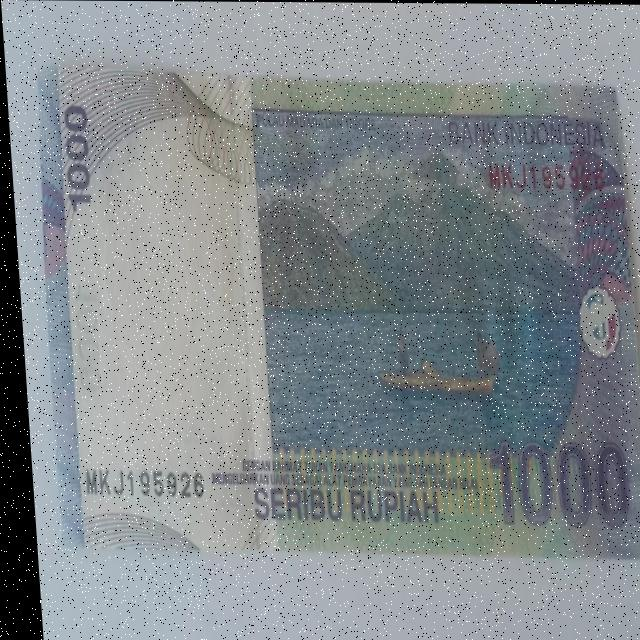1000IndonesianRupiah: (37, 84, 640, 541)
